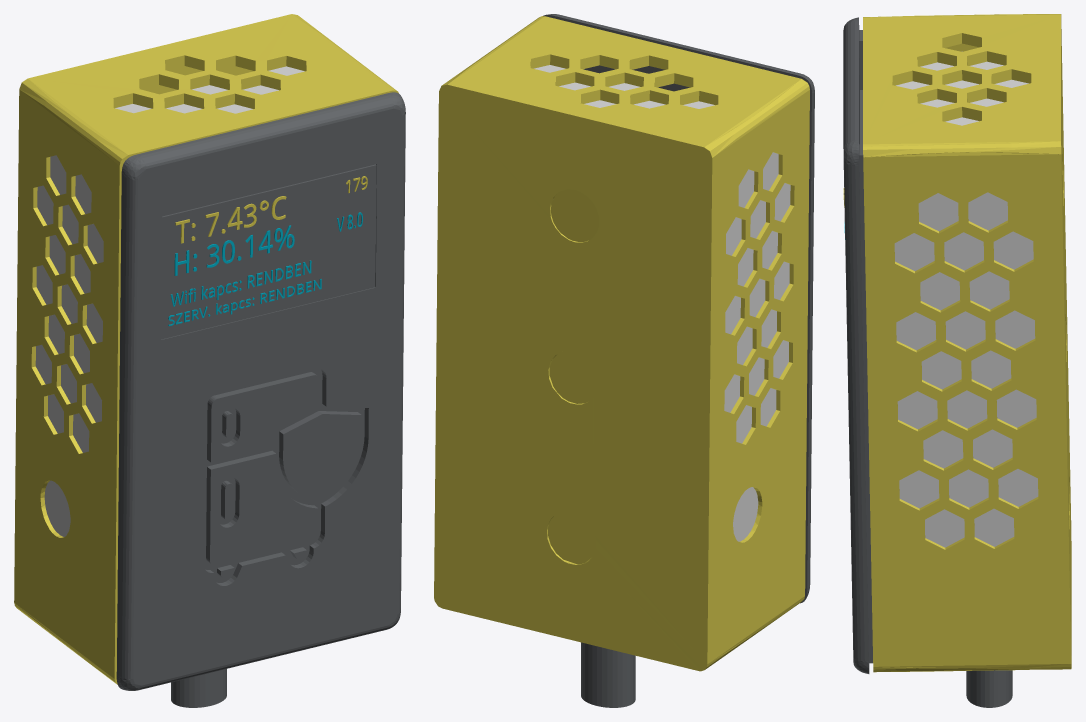
Rendered from sarga_fekete.glb.
The picture shows the model from 3 angles, left to right: view 1: azimuth 30°, elevation 25°; view 2: azimuth 150°, elevation 25°; view 3: azimuth 270°, elevation 25°; orthographic projection. The views are drawn at different scales.
Visible parts, largest first — view 1: Mesh_Mesh_head_geo.001_lambert2SG.001; view 2: Mesh_Mesh_head_geo.001_lambert2SG.001; view 3: Mesh_Mesh_head_geo.001_lambert2SG.001.
Part boxes in pixels (x1,y1,x2,y2): Mesh_Mesh_head_geo.001_lambert2SG.001: (14, 14, 405, 707); Mesh_Mesh_head_geo.001_lambert2SG.001: (434, 14, 814, 707); Mesh_Mesh_head_geo.001_lambert2SG.001: (843, 14, 1071, 707).
Bounding box in the file's own units: 33 × 70.15 × 23.52.
